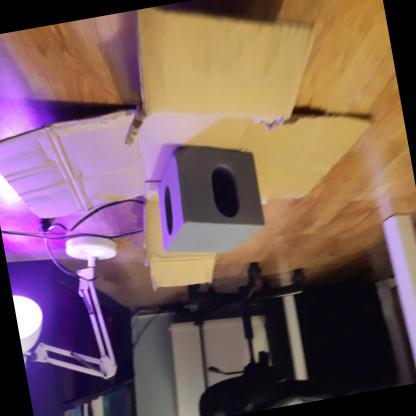CornerCasting: (141, 128, 277, 268)
